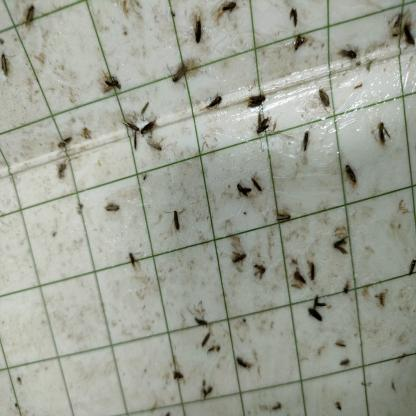prays_oleae: (101, 73, 127, 103), (370, 111, 390, 147), (317, 84, 337, 119), (342, 156, 359, 195), (336, 40, 358, 67), (290, 262, 309, 291), (399, 21, 416, 53), (125, 246, 142, 277), (189, 312, 214, 333), (53, 125, 74, 150), (169, 206, 184, 240), (305, 299, 322, 329), (244, 89, 267, 111), (256, 115, 273, 144), (171, 363, 188, 392), (167, 62, 189, 84), (335, 234, 350, 266), (20, 5, 40, 27), (203, 94, 224, 114), (338, 276, 352, 306), (254, 256, 268, 284), (252, 172, 267, 197), (140, 119, 162, 136), (229, 248, 247, 268), (0, 41, 9, 81), (374, 286, 386, 316), (290, 35, 306, 56), (238, 180, 253, 202), (275, 209, 292, 228), (193, 18, 203, 50), (235, 352, 249, 373), (338, 356, 352, 377), (104, 202, 122, 218), (330, 334, 348, 349), (300, 129, 311, 151), (409, 255, 416, 289), (198, 339, 214, 348)
